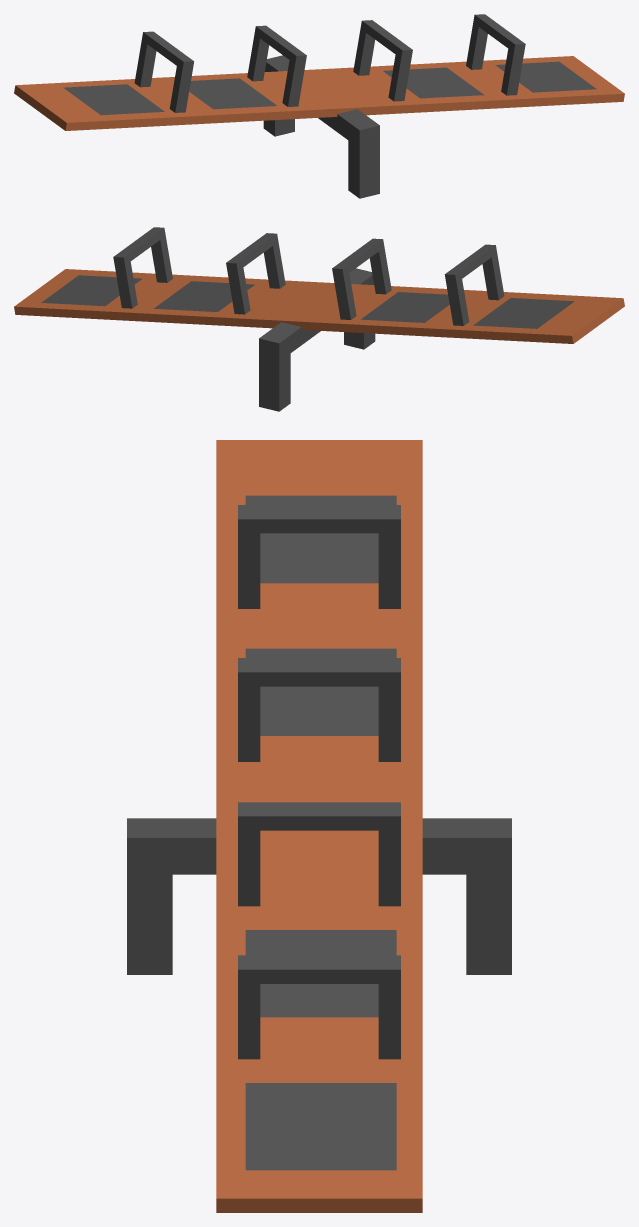
Rendered from SISO6.fbx.
3 views of the same model, one above another, from view 1: azimuth 30°, elevation 25°; view 2: azimuth 150°, elevation 25°; view 3: azimuth 270°, elevation 25° (orthographic). The views are drawn at different scales.
Visible parts, largest first — view 1: 평면.004, 평면.006, 평면.003, 평면.001, 큐브, 평면.007; view 2: 평면.004, 평면.005, 평면.006, 평면.003, 평면.001, 큐브, 평면.007; view 3: 평면.004, 평면.007, 큐브, 평면.006, 평면.003, 평면.001.
Part boxes in pixels (x1=…): 평면.004: x1=14, y1=56, x2=624, y2=130; 평면.006: x1=353, y1=14, x2=525, y2=101; 평면.003: x1=134, y1=25, x2=306, y2=112; 평면.001: x1=63, y1=78, x2=276, y2=115; 큐브: x1=263, y1=55, x2=379, y2=198; 평면.007: x1=383, y1=61, x2=596, y2=98; 평면.004: x1=14, y1=269, x2=624, y2=343; 평면.005: x1=14, y1=306, x2=573, y2=343; 평면.006: x1=113, y1=227, x2=285, y2=314; 평면.003: x1=332, y1=238, x2=504, y2=325; 평면.001: x1=361, y1=292, x2=574, y2=328; 큐브: x1=259, y1=268, x2=375, y2=411; 평면.007: x1=41, y1=275, x2=254, y2=311; 평면.004: x1=216, y1=440, x2=422, y2=1212; 평면.007: x1=245, y1=930, x2=396, y2=1170; 큐브: x1=127, y1=818, x2=511, y2=974; 평면.006: x1=238, y1=802, x2=400, y2=1059; 평면.003: x1=238, y1=505, x2=400, y2=761; 평면.001: x1=245, y1=495, x2=396, y2=735.
Size of the model in its own units: 1712 by 447 by 510.
